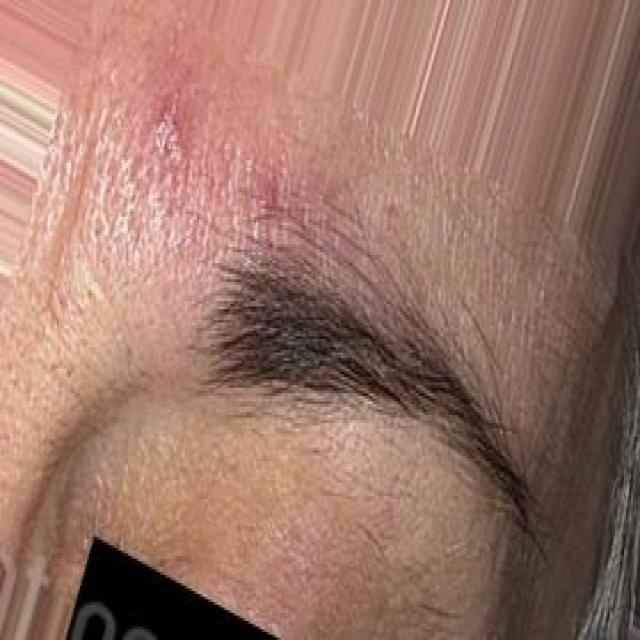Rosacea: (58, 38, 297, 226)
